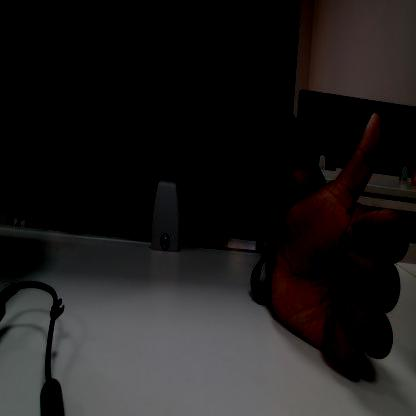Thumbs up: (293, 102, 409, 387)
